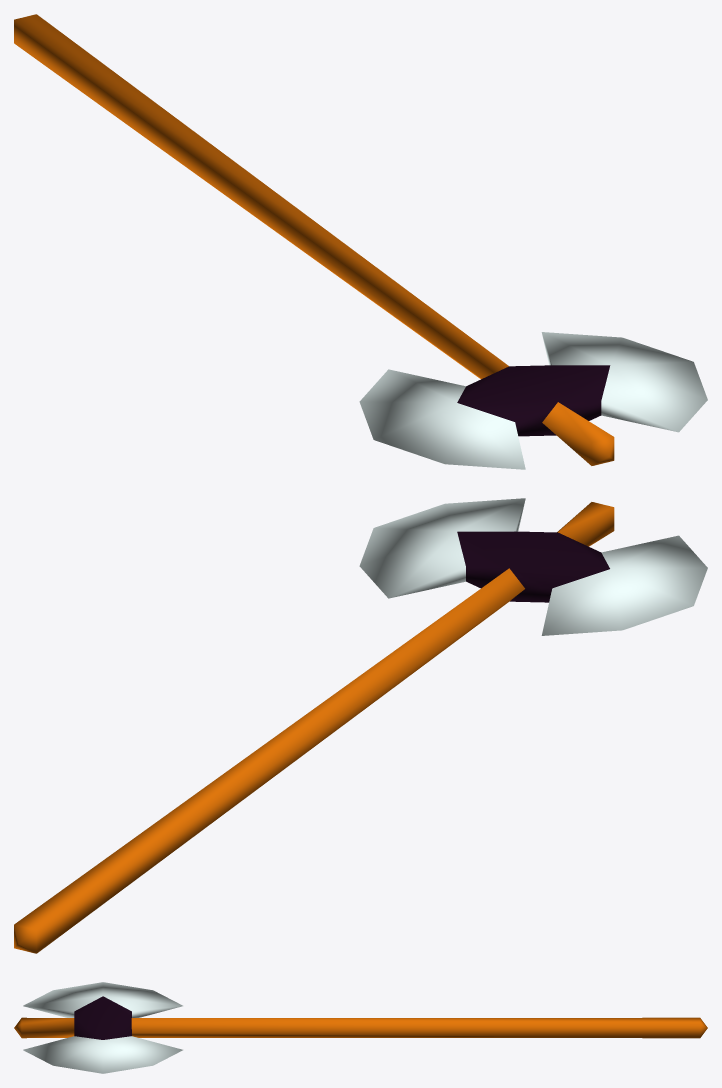
File: Axe 2.fbx
3 renders of one model, top to bottom at view 1: azimuth 30°, elevation 25°; view 2: azimuth 150°, elevation 25°; view 3: azimuth 270°, elevation 25°, orthographic. The views are drawn at different scales.
Visible parts, largest first — view 1: Axe_001; view 2: Axe_001; view 3: Axe_001.
Boxes of the visible parts, left/top/right/bottom form: Axe_001: left=14, top=14, right=707, bottom=469; Axe_001: left=14, top=498, right=707, bottom=953; Axe_001: left=14, top=982, right=707, bottom=1073.
Size of the model in its own units: 0.5 by 0.05 by 1.6.
Materials: 3 (3 with a texture image).
